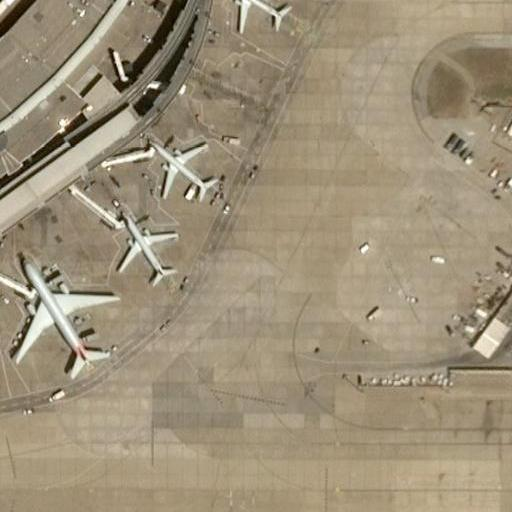Aircraft: (6, 251, 116, 376), (104, 205, 180, 284), (147, 128, 219, 204), (220, 0, 290, 33)
